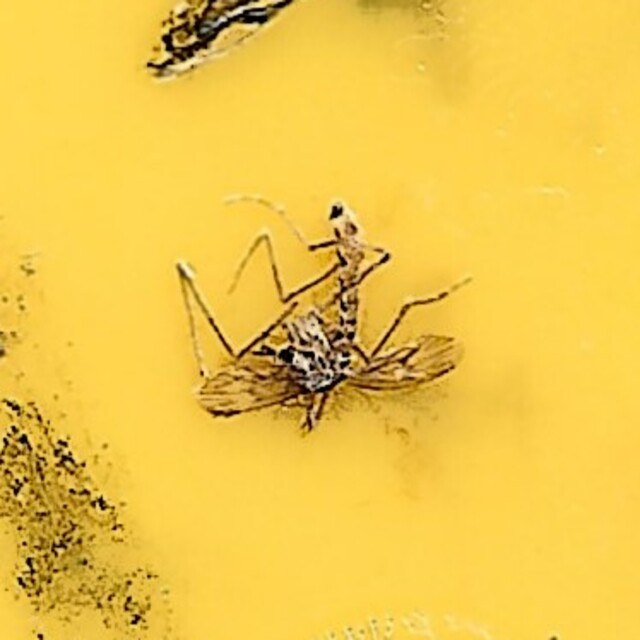Nematocera: (171, 196, 469, 444)
